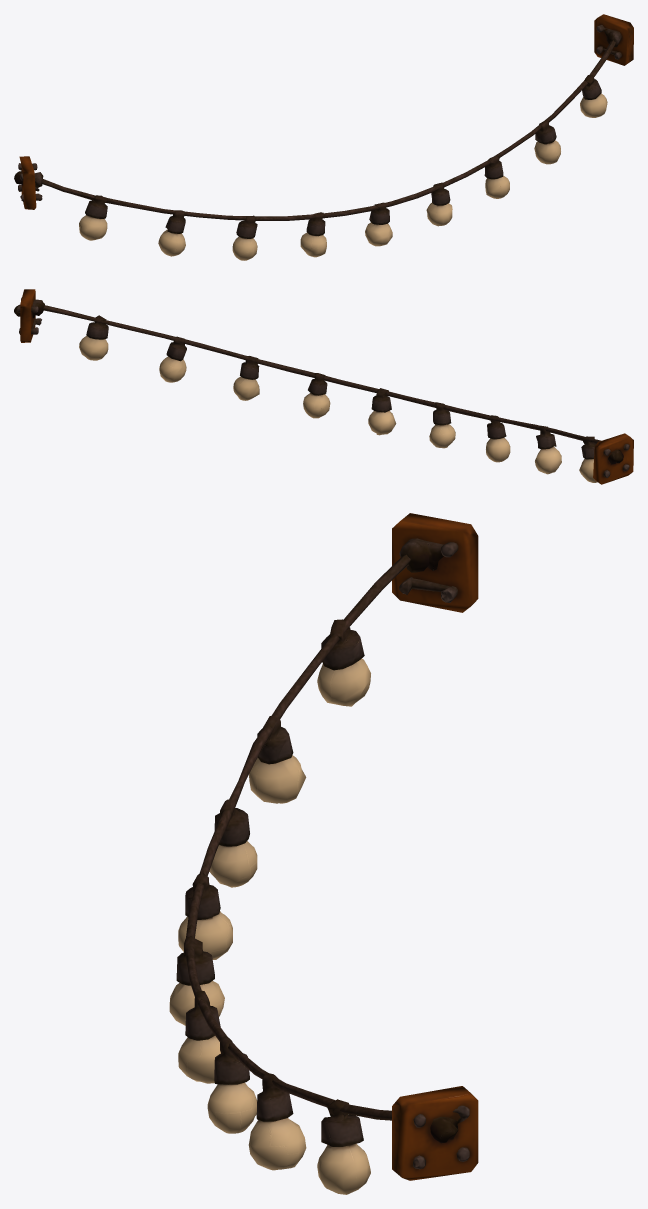
File: HK_string_lights.glb
The picture shows the model from 3 angles, top to bottom: view 1: azimuth 30°, elevation 25°; view 2: azimuth 150°, elevation 25°; view 3: azimuth 270°, elevation 25°; orthographic projection. The views are drawn at different scales.
Parts seen in each view (by area): view 1: geometry_0; view 2: geometry_0; view 3: geometry_0.
Part boxes in pixels (box(x1,y1,x2,y2)): geometry_0: box(14, 14, 633, 260); geometry_0: box(14, 289, 633, 484); geometry_0: box(169, 513, 478, 1194).
Size of the model in its own units: 0.9541 by 0.1636 by 0.2095.
Materials: 1 (1 with a texture image).
